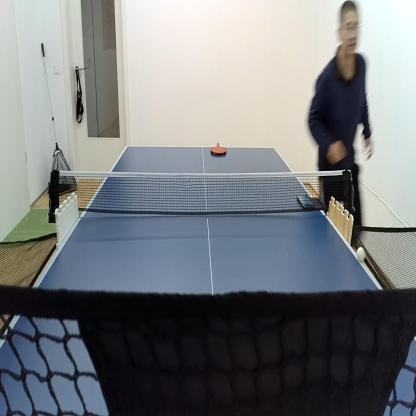Ball: (356, 246, 367, 264)
